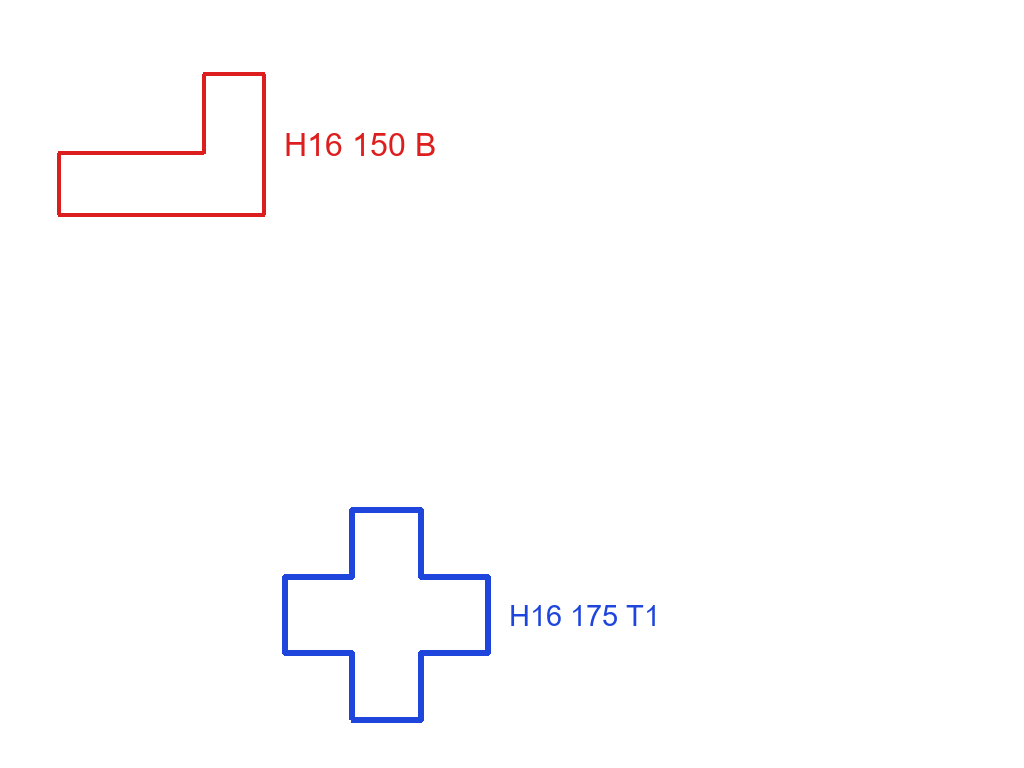shape: (279, 505, 494, 725), (54, 71, 268, 218)
text: (282, 131, 438, 158), (507, 603, 662, 628)
